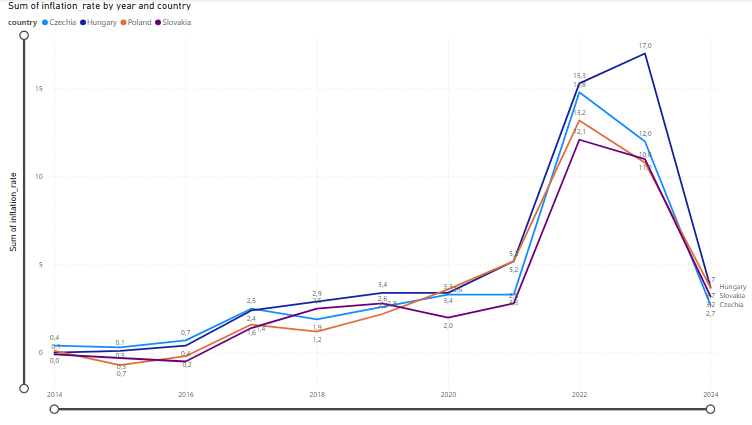

The dashboard page shown, as its layout file describes it:
{"tool":"powerbi","page":{"name":"Page 1","canvas":[1280,720],"ordinal":0},"visuals":[{"type":"lineChart","fields":{"Category":["INFLATION_CHART.year"],"Y":["Sum(INFLATION_CHART.inflation_rate)"],"Series":["INFLATION_CHART.country"]},"box":[11.8,0,1256.5,720.6],"z":0}]}

Visuals, with their boxes in screenshot pixels (x1, y1, x2, y2), scaled from the page's 1280x720 canvas onto the 752x425 screenshot:
lineChart - INFLATION_CHART.year x Sum(INFLATION_CHART.inflation_rate): 7,0,745,424
